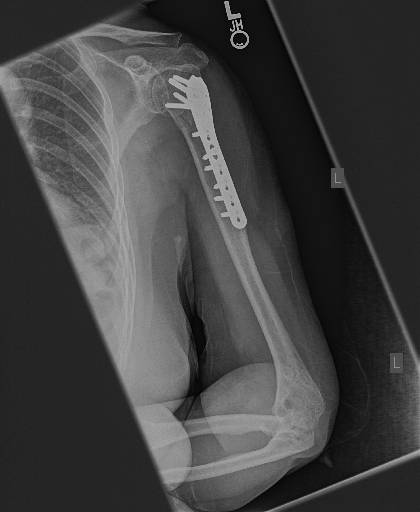implant: (163, 69, 248, 233)
